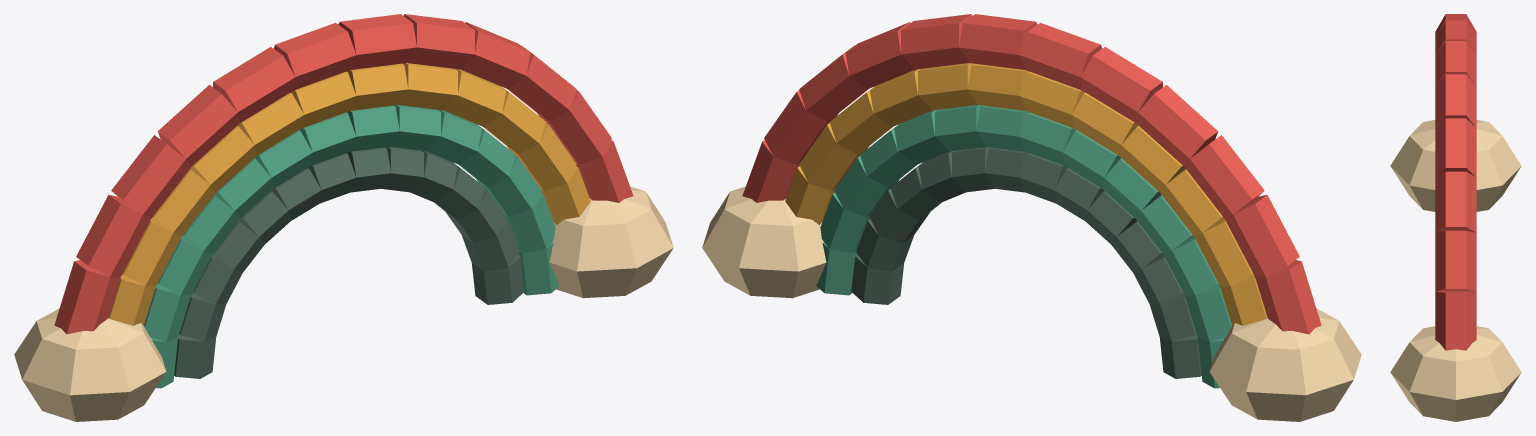
Rendered from ParkParkDecorRainbow.obj.
3 views of the same model, side by side, from view 1: azimuth 30°, elevation 25°; view 2: azimuth 150°, elevation 25°; view 3: azimuth 270°, elevation 25° (orthographic). The views are drawn at different scales.
Parts seen in each view (by area): view 1: ParkParkDecorRainbow; view 2: ParkParkDecorRainbow; view 3: ParkParkDecorRainbow.
Boxes of the visible parts, x1=… form: ParkParkDecorRainbow: x1=14, y1=14, x2=673, y2=421; ParkParkDecorRainbow: x1=702, y1=14, x2=1361, y2=421; ParkParkDecorRainbow: x1=1390, y1=14, x2=1521, y2=421.
Size of the model in its own units: 6.6 by 3.19 by 1.4.
